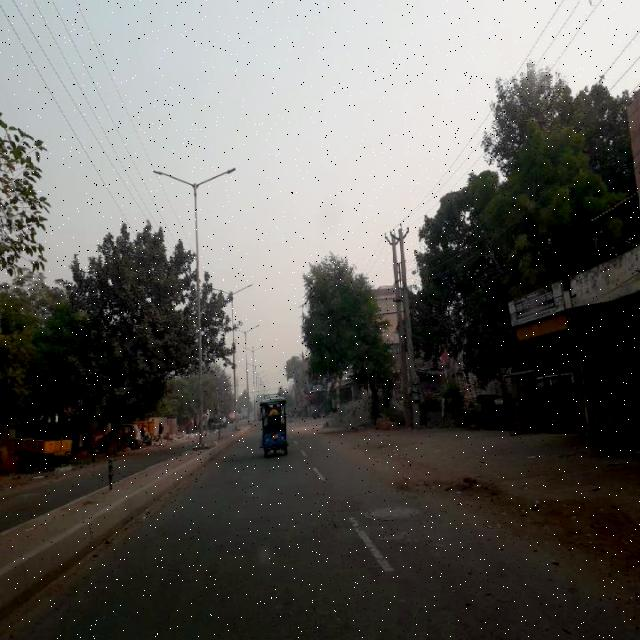D50: (361, 499, 428, 527)
